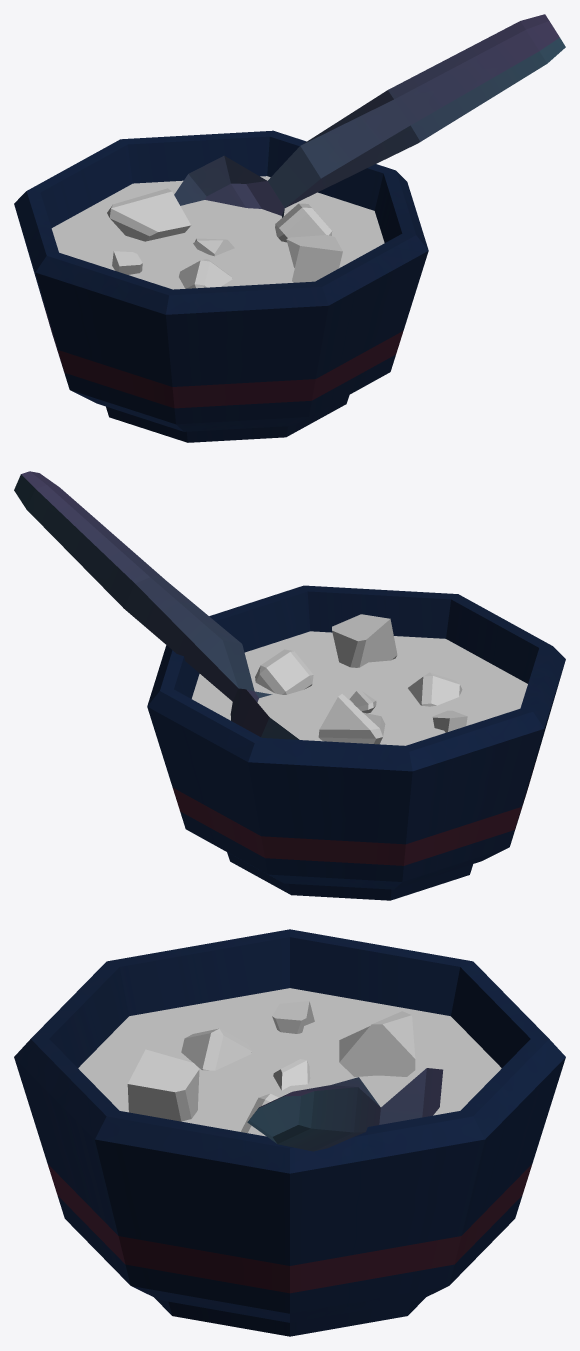
Rendered from Food_Curry.fbx.
3 renders of one model, top to bottom at view 1: azimuth 30°, elevation 25°; view 2: azimuth 150°, elevation 25°; view 3: azimuth 270°, elevation 25°, orthographic. The views are drawn at different scales.
Visible parts, largest first — view 1: Food_Curry; view 2: Food_Curry; view 3: Food_Curry.
Part boxes in pixels (x1,y1,x2,y2): Food_Curry: [14, 14, 565, 442]; Food_Curry: [14, 471, 565, 900]; Food_Curry: [14, 929, 565, 1336].
Bounding box in the file's own units: 30.69 × 16.43 × 21.85.
